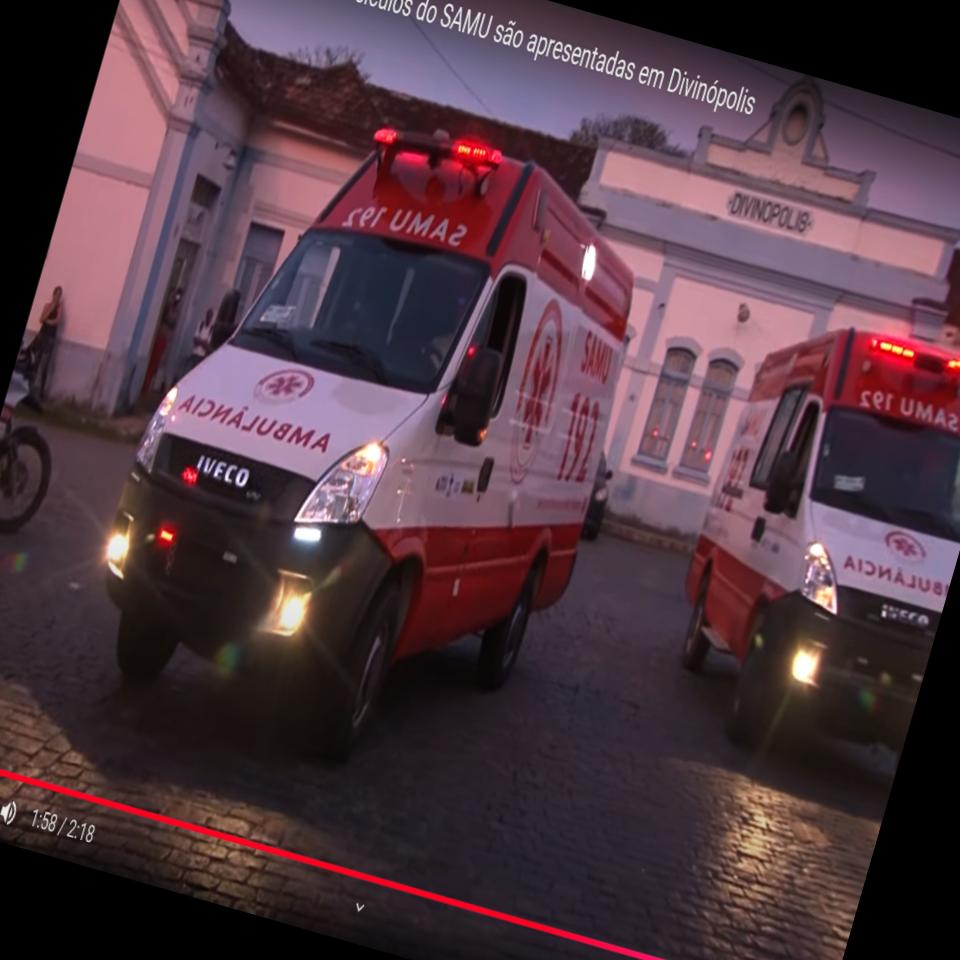bombeiro: (68, 71, 684, 806), (644, 295, 960, 795)
